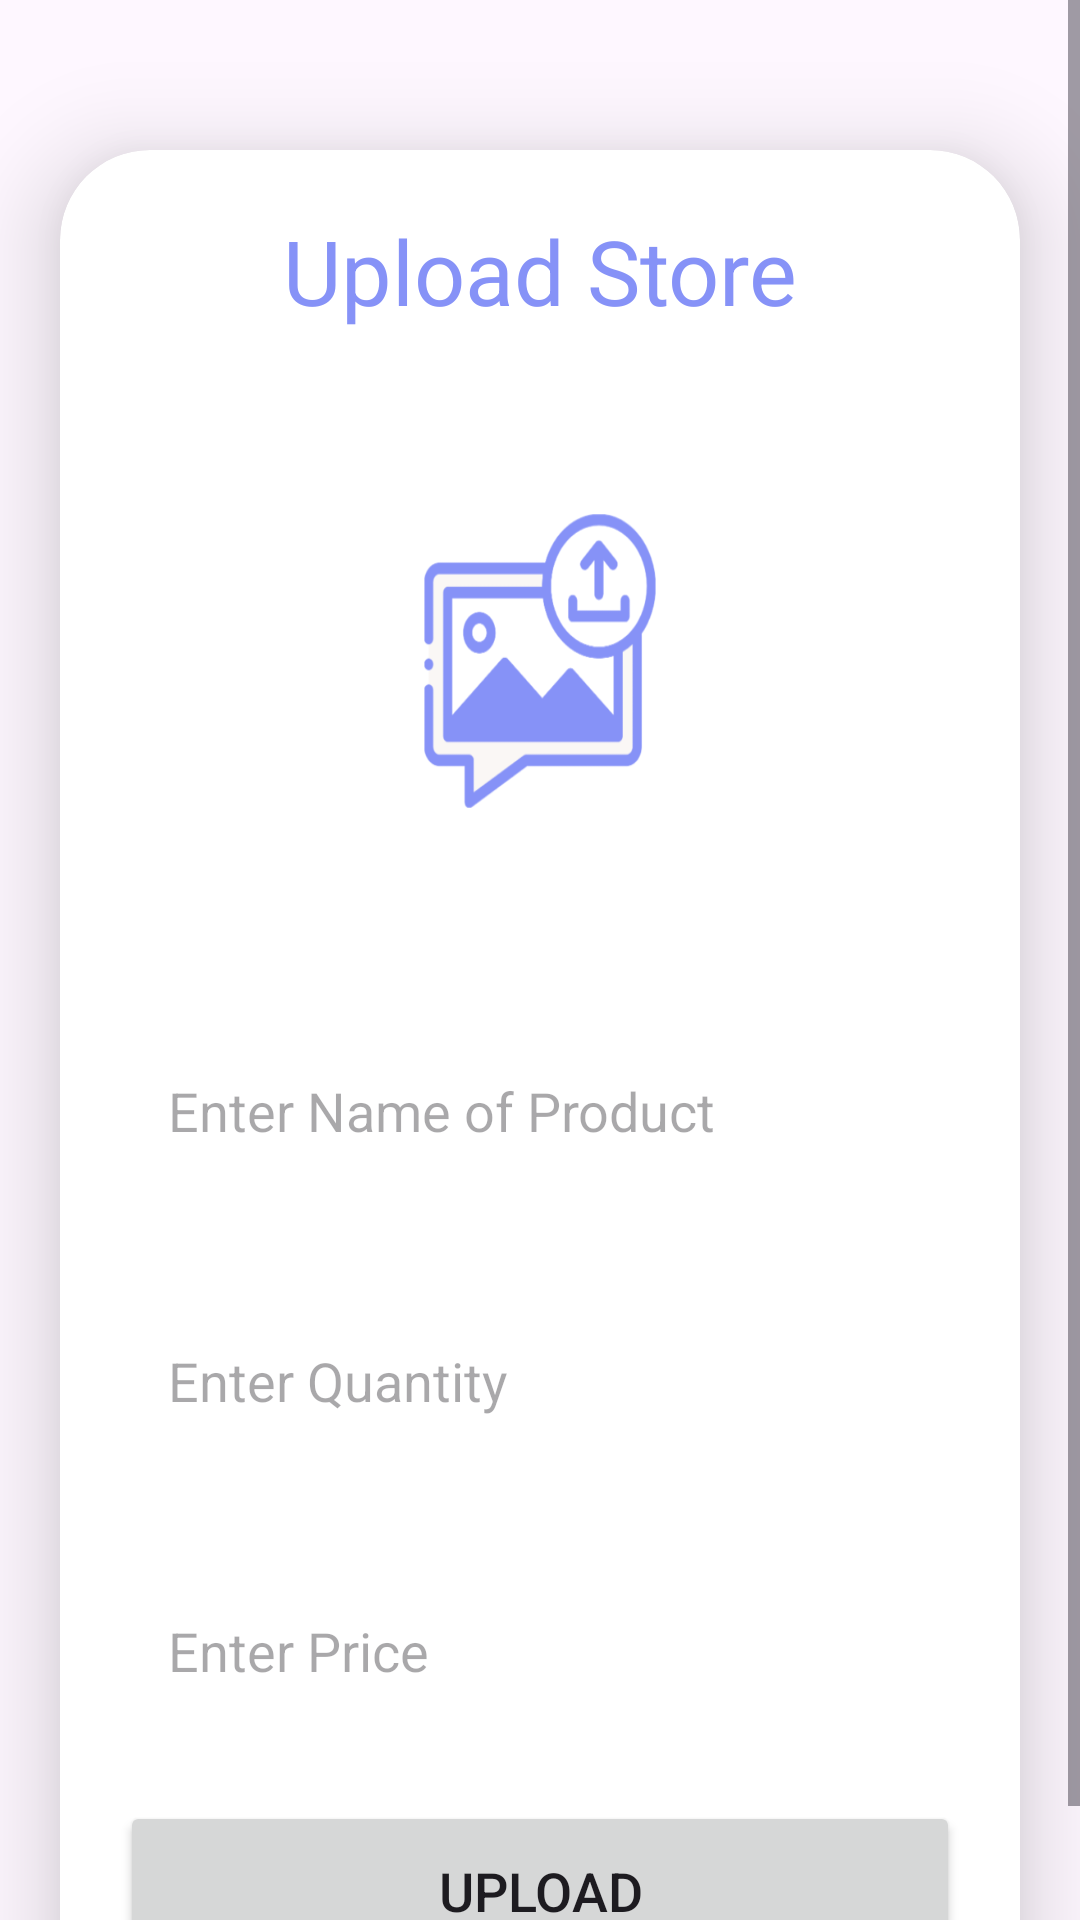

Locate icon controls on the screen. Image size 1080 x 1920, boxes as (x1, y1, x2, y2).
uploadimg: (424, 514, 656, 808)
